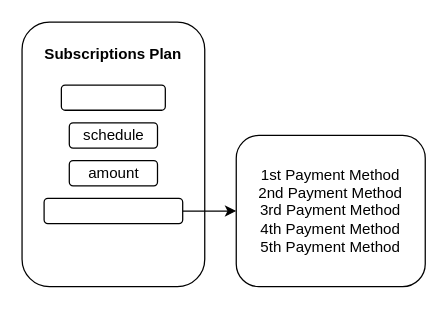
This 447x309 diagram has some shape labels left out. The box of each missing label's shape, as (x1, y1, x2, y2) in pixels:
customer_id: (60, 84, 165, 110)
payment_methods: (43, 197, 183, 224)
